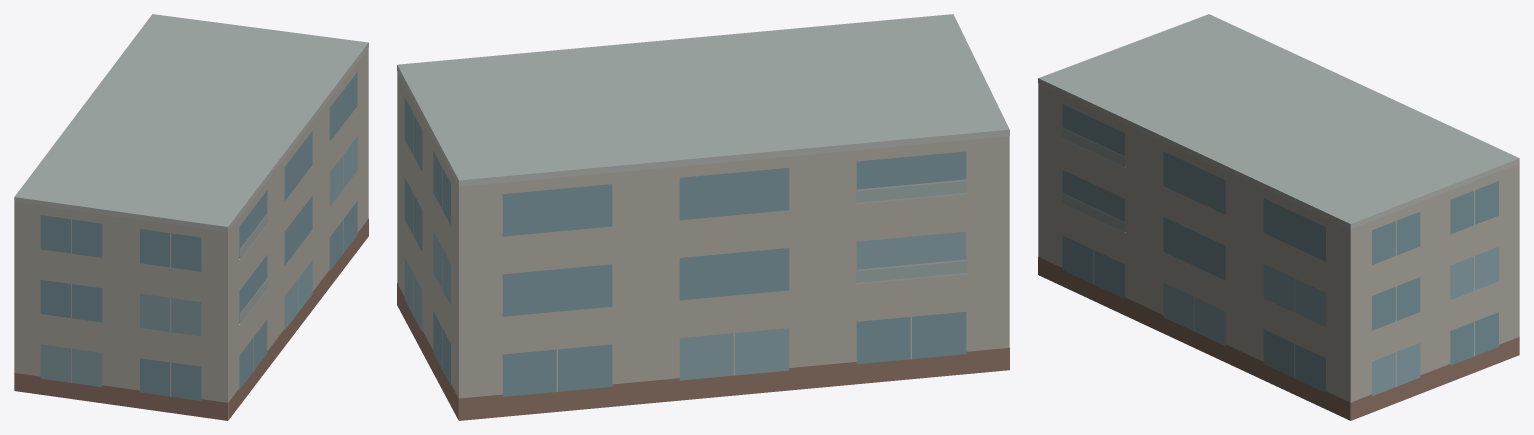
File: survey-upis-32847887.glb
The picture shows the model from 3 angles, left to right: view 1: azimuth 30°, elevation 25°; view 2: azimuth 150°, elevation 25°; view 3: azimuth 270°, elevation 25°; orthographic projection. The views are drawn at different scales.
Parts seen in each view (by area): view 1: survey-upis-32847887.tmp; view 2: survey-upis-32847887.tmp; view 3: survey-upis-32847887.tmp.
Part boxes in pixels (<box>): survey-upis-32847887.tmp: <box>14,14,368,420</box>; survey-upis-32847887.tmp: <box>397,14,1009,420</box>; survey-upis-32847887.tmp: <box>1038,14,1519,420</box>.
Size of the model in its own units: 20.96 by 9.15 by 20.3.
